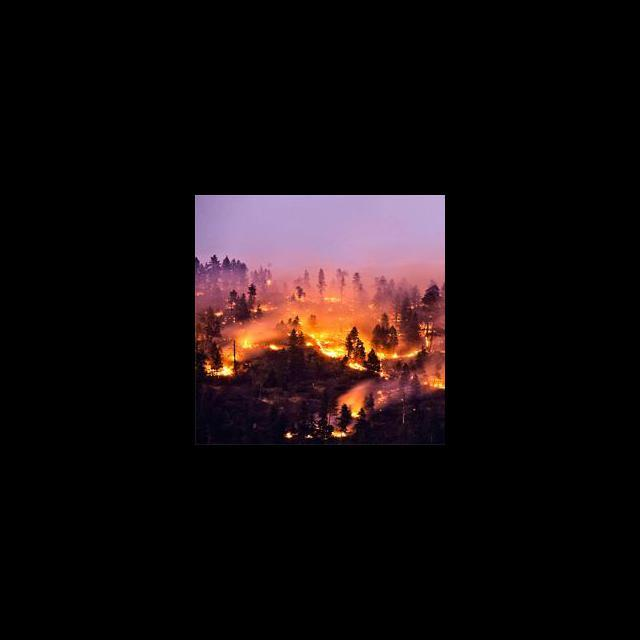Fire: (195, 275, 444, 439)
